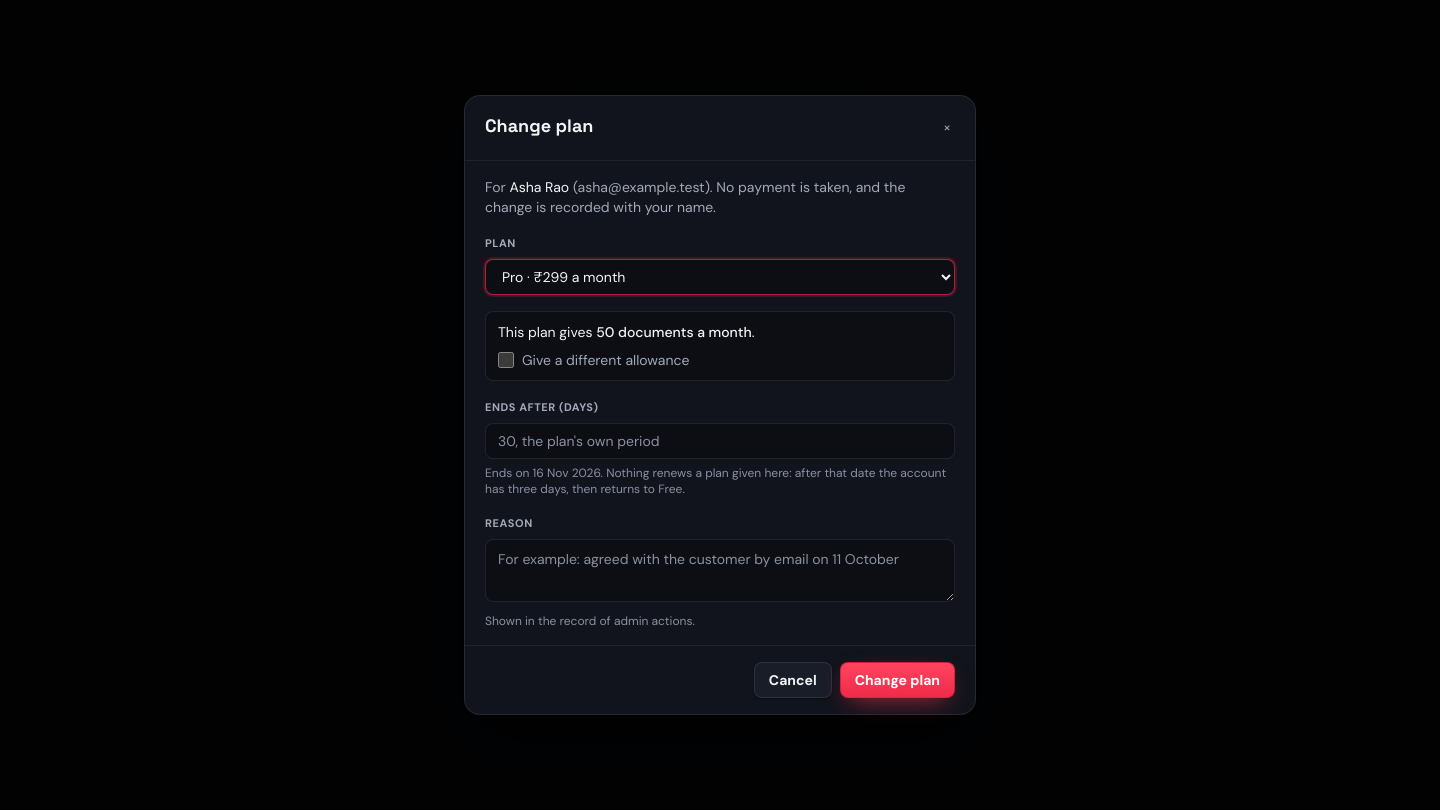
Scenario: changing a plan › says what the account will get before anything is saved
Expected: the dialog "Change plan" shows "This plan gives 50 documents a month.", [464,95,976,715]
Select "Business · ₹499 a seat a month" in the dropdown labelled "Plan" at [720, 277], box [485,259,955,295]
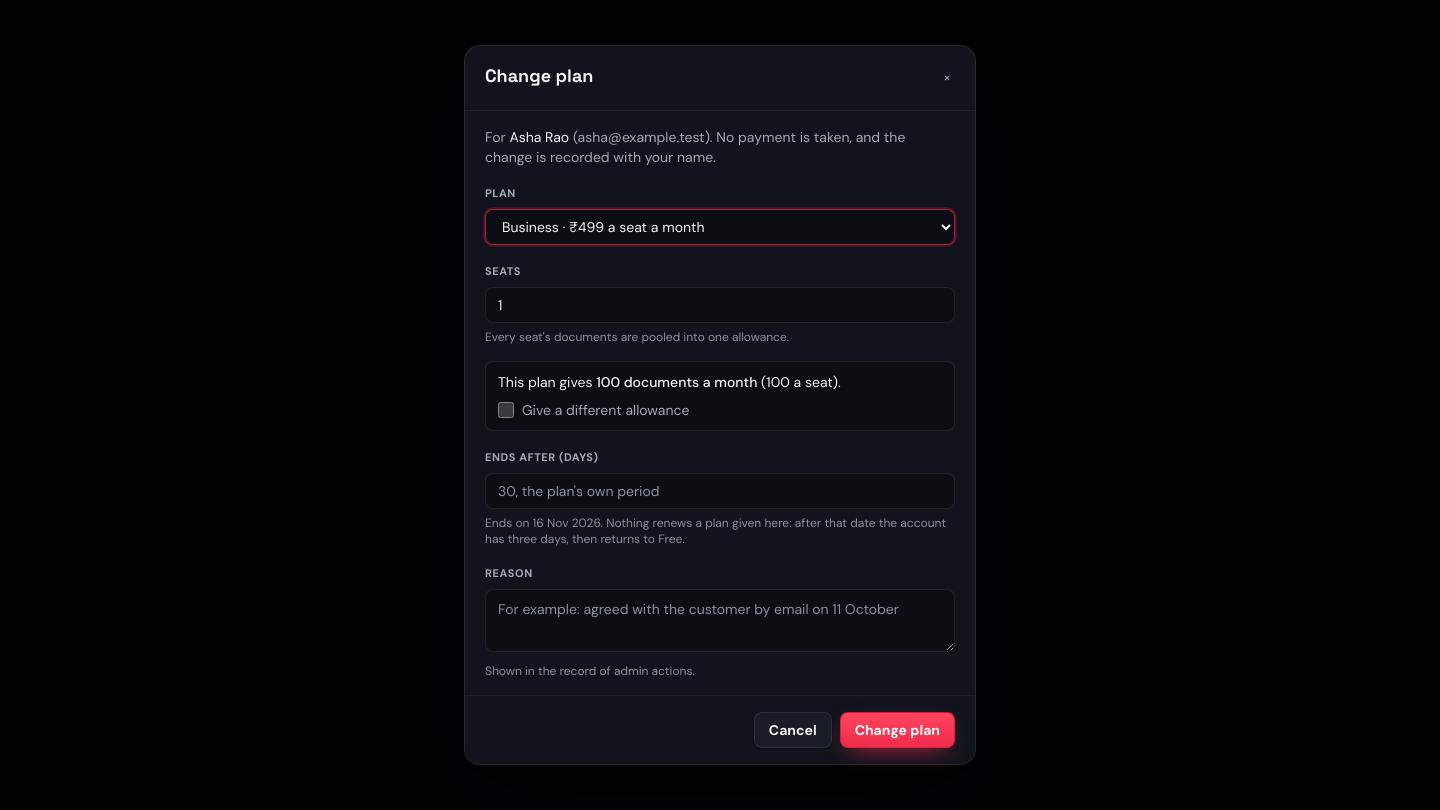
Replace the text in the number field labelled "Seats" with "3" at [720, 305], box [485,287,955,323]
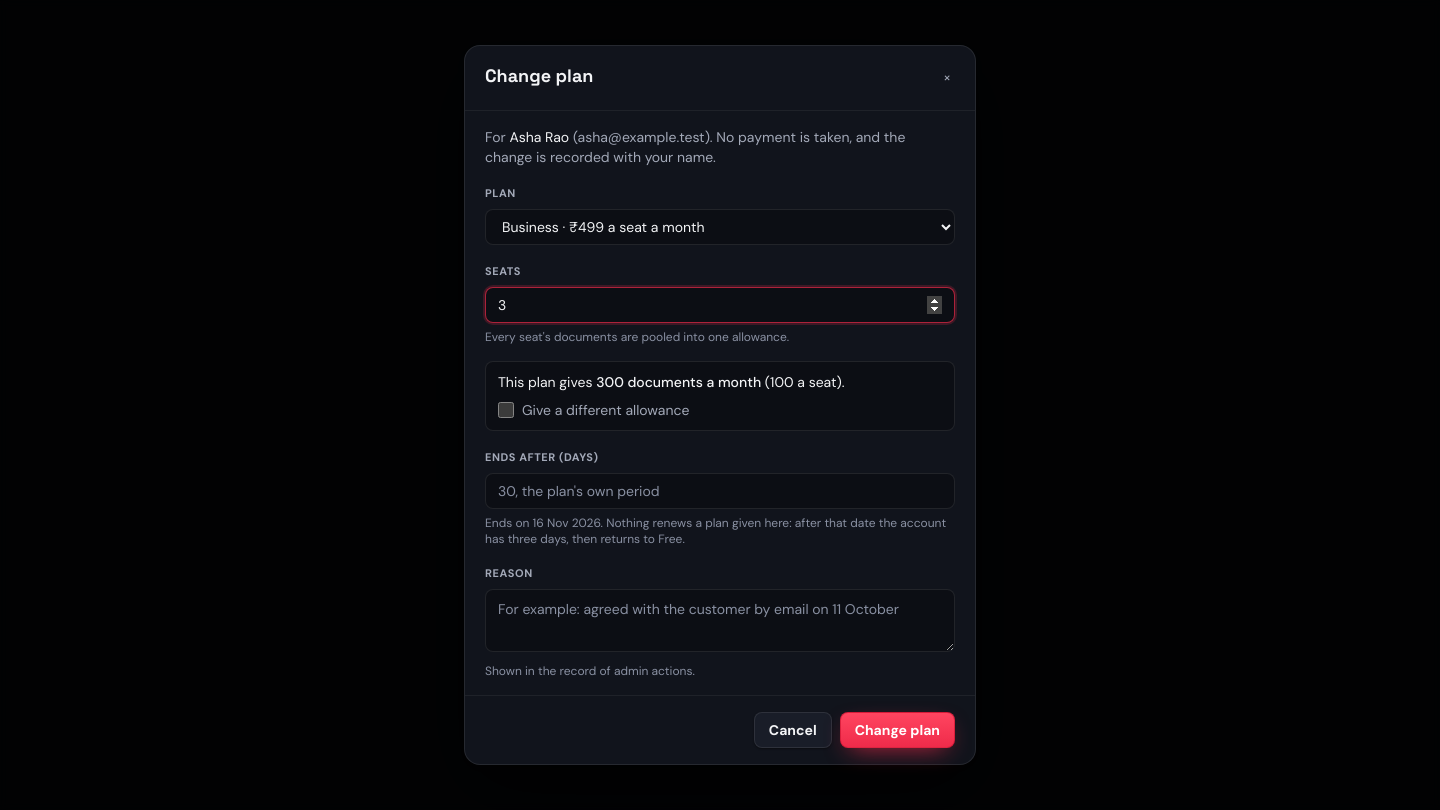
Result: the dialog "Change plan" shows "This plan gives 300 documents a month (100 a seat)." at [464,45,976,765]
